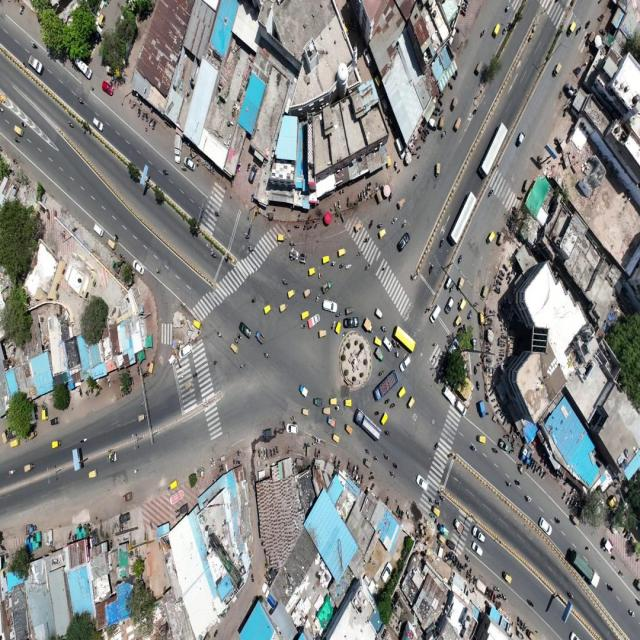3W: (362, 313, 373, 336), (554, 60, 565, 79), (492, 20, 502, 40), (450, 94, 460, 112), (454, 116, 464, 132), (406, 393, 415, 409), (397, 196, 407, 210), (398, 386, 406, 403), (344, 396, 353, 411), (380, 412, 389, 426), (468, 442, 478, 454), (286, 289, 296, 301), (337, 247, 346, 260), (379, 227, 389, 238), (335, 322, 344, 334), (444, 276, 453, 288), (303, 288, 312, 300), (300, 310, 309, 322), (308, 265, 317, 277), (321, 254, 330, 266), (479, 311, 486, 326), (505, 573, 513, 586), (475, 60, 483, 73), (170, 474, 181, 483), (320, 326, 326, 342), (458, 278, 466, 290), (148, 361, 155, 374), (489, 231, 496, 244), (518, 133, 525, 146), (52, 441, 62, 450), (278, 303, 287, 313), (89, 469, 98, 478), (24, 462, 32, 472), (361, 399, 369, 409), (264, 304, 271, 315), (374, 338, 382, 347), (109, 240, 116, 249), (478, 434, 484, 444), (333, 434, 339, 444), (186, 383, 193, 390), (138, 414, 146, 420), (303, 408, 309, 415), (331, 398, 337, 404)
Bus: (478, 121, 508, 175), (448, 190, 478, 242), (394, 322, 415, 352), (92, 220, 104, 236)
Cars: (538, 517, 556, 541), (396, 230, 412, 252), (178, 340, 194, 360), (415, 471, 429, 491), (457, 397, 469, 420), (444, 386, 456, 408), (132, 260, 145, 279), (324, 297, 336, 317), (345, 314, 358, 332), (446, 294, 456, 317), (400, 353, 412, 372), (286, 423, 299, 440), (430, 305, 441, 325), (239, 323, 252, 338), (184, 157, 196, 170), (118, 513, 131, 523)
LCV: (477, 400, 488, 419), (454, 518, 466, 535), (309, 314, 320, 329), (255, 328, 264, 344), (498, 440, 509, 453), (374, 306, 383, 319)
M2W: (432, 440, 442, 456), (503, 476, 513, 492), (192, 318, 202, 330), (246, 244, 256, 256), (486, 187, 496, 198), (364, 263, 373, 274), (411, 170, 419, 182), (80, 435, 90, 444), (215, 330, 224, 340), (480, 27, 489, 37), (162, 168, 170, 179), (456, 253, 464, 264), (469, 225, 477, 236), (378, 368, 387, 377), (364, 446, 373, 455), (210, 252, 218, 262), (338, 260, 346, 270), (251, 296, 259, 305), (330, 259, 338, 268), (298, 323, 306, 332), (263, 351, 271, 360), (394, 351, 401, 361), (335, 405, 342, 415), (383, 397, 390, 407), (393, 457, 398, 471), (383, 451, 390, 461), (244, 231, 250, 242), (526, 493, 532, 504), (374, 404, 379, 417), (281, 276, 288, 285), (515, 476, 521, 486), (132, 469, 140, 476), (151, 122, 159, 129), (156, 266, 163, 274), (239, 363, 247, 370), (315, 294, 321, 303), (214, 208, 220, 217), (209, 360, 218, 366), (464, 538, 470, 546), (390, 402, 396, 410), (331, 321, 336, 330), (292, 386, 298, 393), (193, 371, 199, 377), (300, 375, 306, 381)
MAV: (574, 545, 602, 589), (355, 408, 381, 442), (374, 372, 399, 401)
